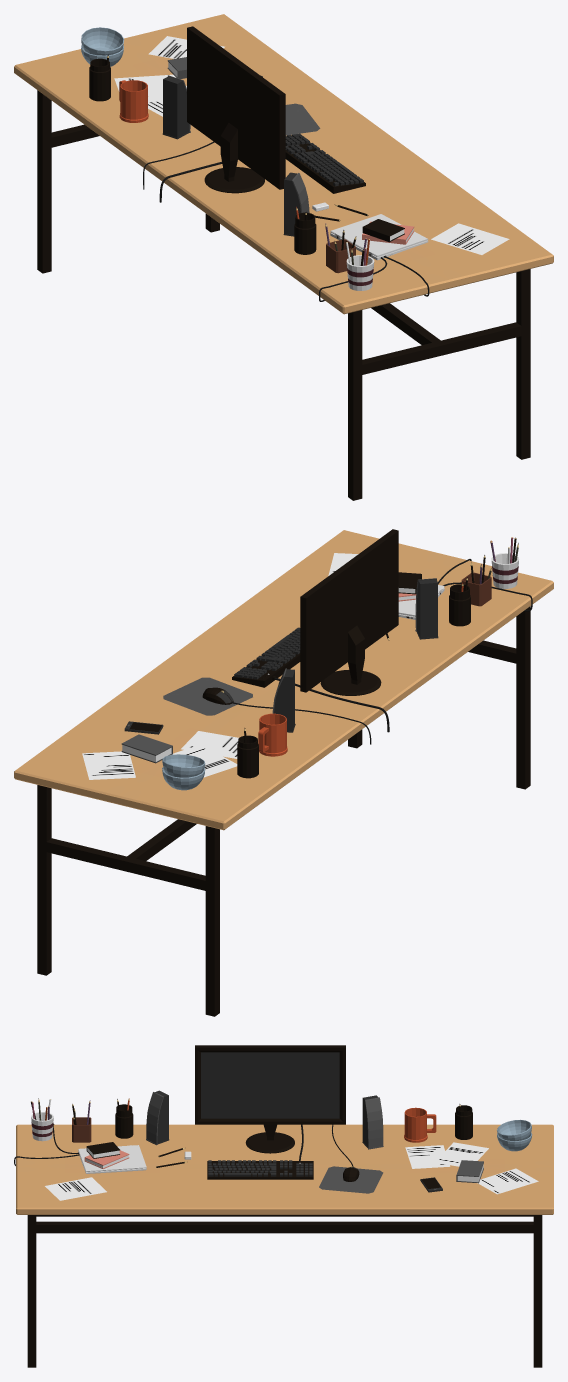
3 renders of one model, top to bottom at view 1: azimuth 30°, elevation 25°; view 2: azimuth 150°, elevation 25°; view 3: azimuth 270°, elevation 25°, orthographic. The views are drawn at different scales.
Visible parts, largest first — view 1: Desk, PC_Monitor, Boxes, Paper, PC_Speaker, PC_Keyboard, Notebook, Books, Dish, Mousepad, Pen; view 2: Desk, PC_Monitor, Boxes, Paper, PC_Speaker, PC_Keyboard, Mousepad, Books, Dish, Pen; view 3: Desk, PC_Monitor, Paper, Boxes, PC_Speaker, PC_Keyboard, Books, Mousepad, Notebook, Dish, Pen.
Part boxes in pixels (x1=…): Desk: x1=14, y1=14, x2=553, y2=500; PC_Monitor: x1=187, y1=26, x2=285, y2=193; Boxes: x1=89, y1=58, x2=374, y2=290; Paper: x1=114, y1=36, x2=509, y2=254; PC_Speaker: x1=162, y1=75, x2=309, y2=236; PC_Keyboard: x1=285, y1=133, x2=365, y2=193; Notebook: x1=330, y1=214, x2=428, y2=260; Books: x1=167, y1=57, x2=414, y2=244; Dish: x1=81, y1=27, x2=124, y2=66; Mousepad: x1=285, y1=103, x2=320, y2=135; Pen: x1=106, y1=54, x2=369, y2=265; Desk: x1=14, y1=530, x2=553, y2=1016; PC_Monitor: x1=300, y1=529, x2=398, y2=695; Boxes: x1=237, y1=553, x2=518, y2=778; Paper: x1=82, y1=553, x2=358, y2=779; PC_Speaker: x1=272, y1=578, x2=438, y2=732; PC_Keyboard: x1=232, y1=627, x2=300, y2=687; Mousepad: x1=163, y1=677, x2=252, y2=715; Books: x1=121, y1=572, x2=421, y2=763; Dish: x1=162, y1=754, x2=205, y2=790; Pen: x1=244, y1=537, x2=518, y2=743; Desk: x1=16, y1=1124, x2=553, y2=1367; PC_Monitor: x1=195, y1=1045, x2=345, y2=1153; Paper: x1=45, y1=1142, x2=538, y2=1200; Boxes: x1=31, y1=1104, x2=472, y2=1142; PC_Speaker: x1=146, y1=1090, x2=383, y2=1149; PC_Keyboard: x1=207, y1=1160, x2=313, y2=1179; Books: x1=84, y1=1142, x2=483, y2=1183; Mousepad: x1=319, y1=1166, x2=383, y2=1193; Notebook: x1=78, y1=1145, x2=146, y2=1173; Dish: x1=497, y1=1119, x2=532, y2=1151; Pen: x1=31, y1=1098, x2=460, y2=1167.
Bounding box in the file's own units: 2.31 × 3.24 × 6.02.
19 materials, 17 textured.
